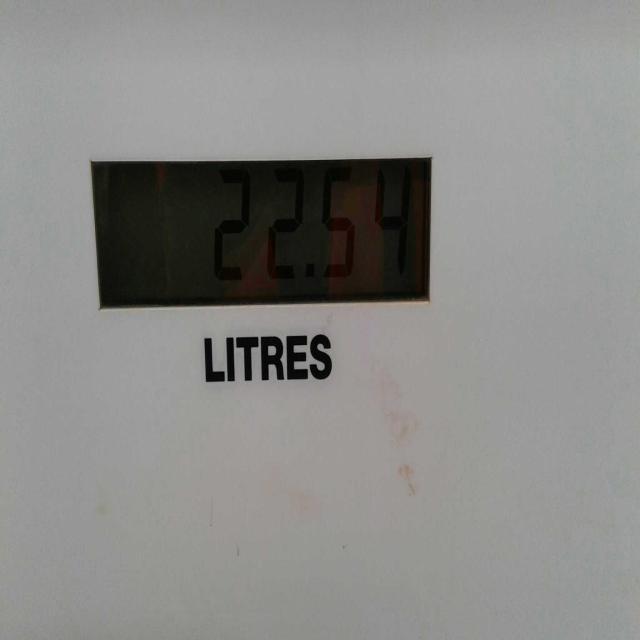.: (304, 257, 320, 292)
2: (201, 158, 259, 290), (266, 160, 303, 283)
4: (368, 161, 417, 292)
5: (311, 157, 362, 289)
